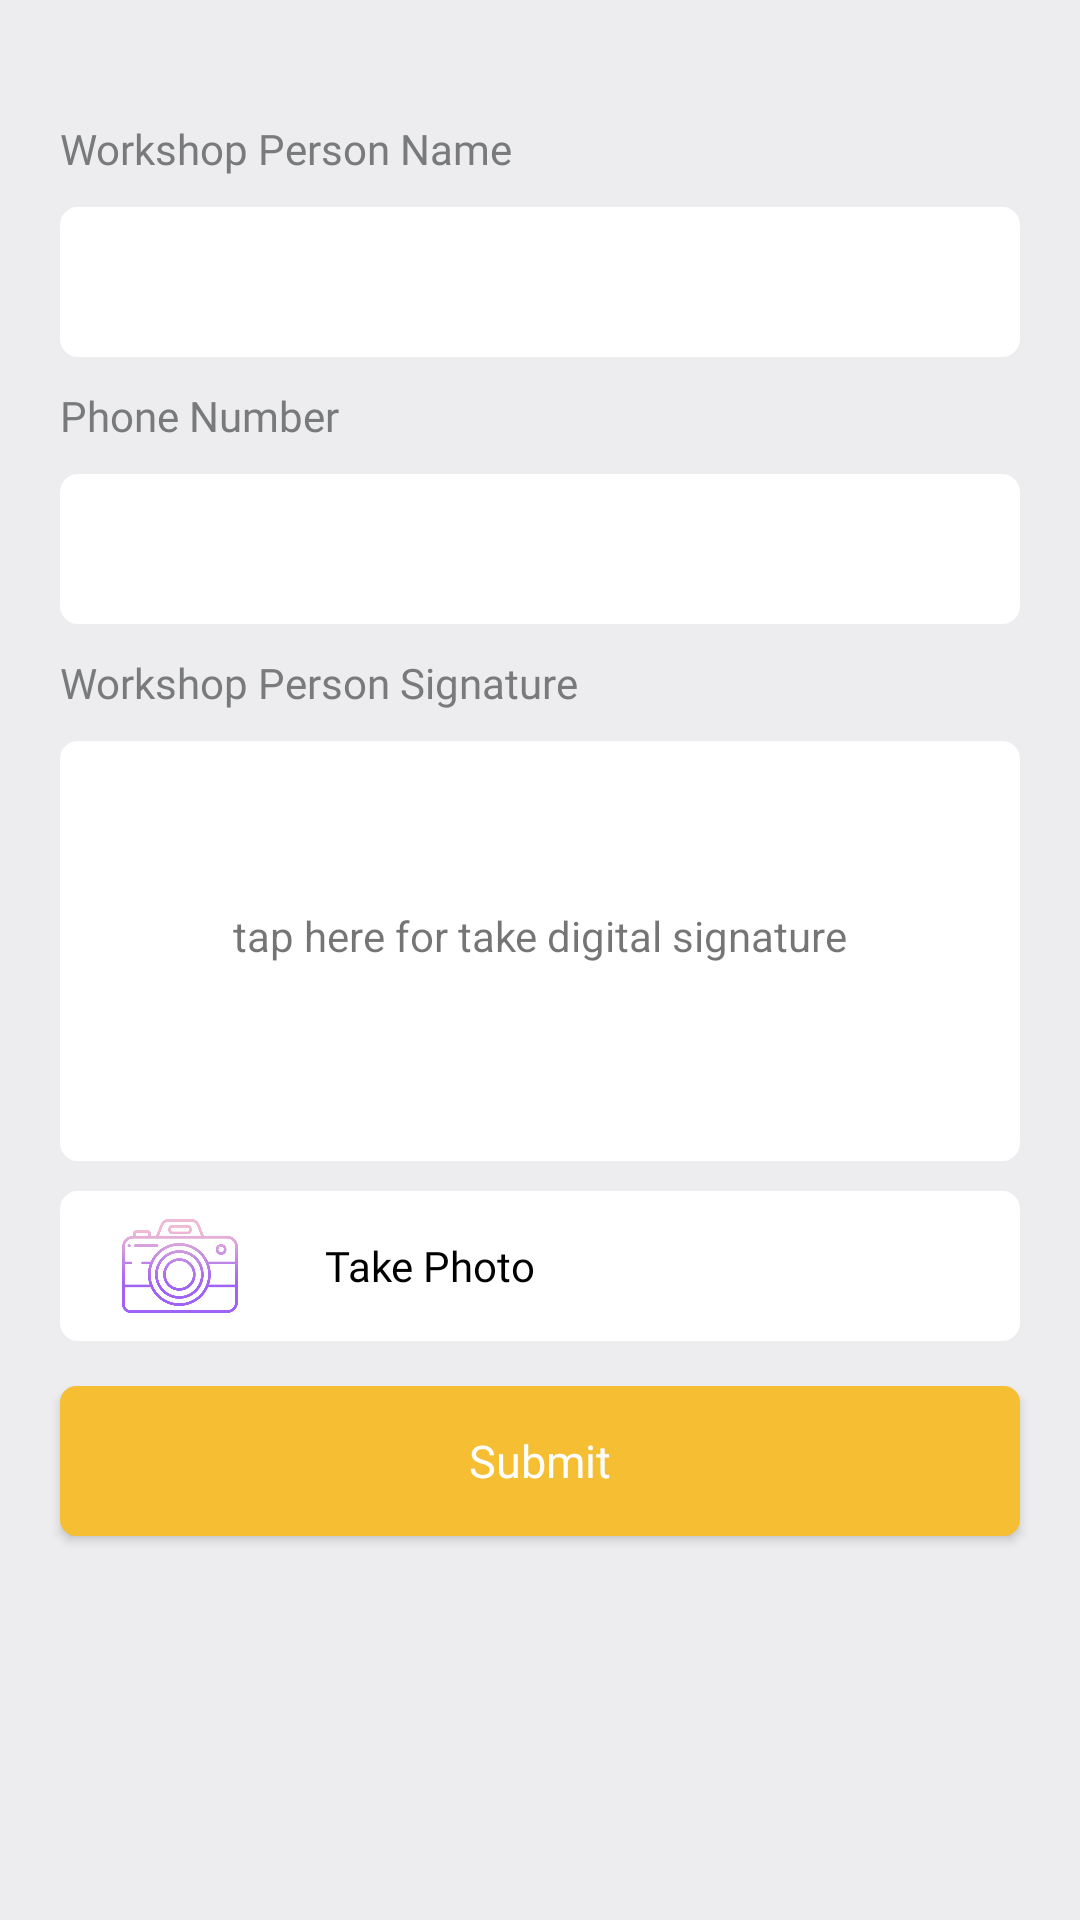

Icons on this 1080x1920 Android screen, each with the point to tap as (x,y):
cameraimogo: (180,1266)
